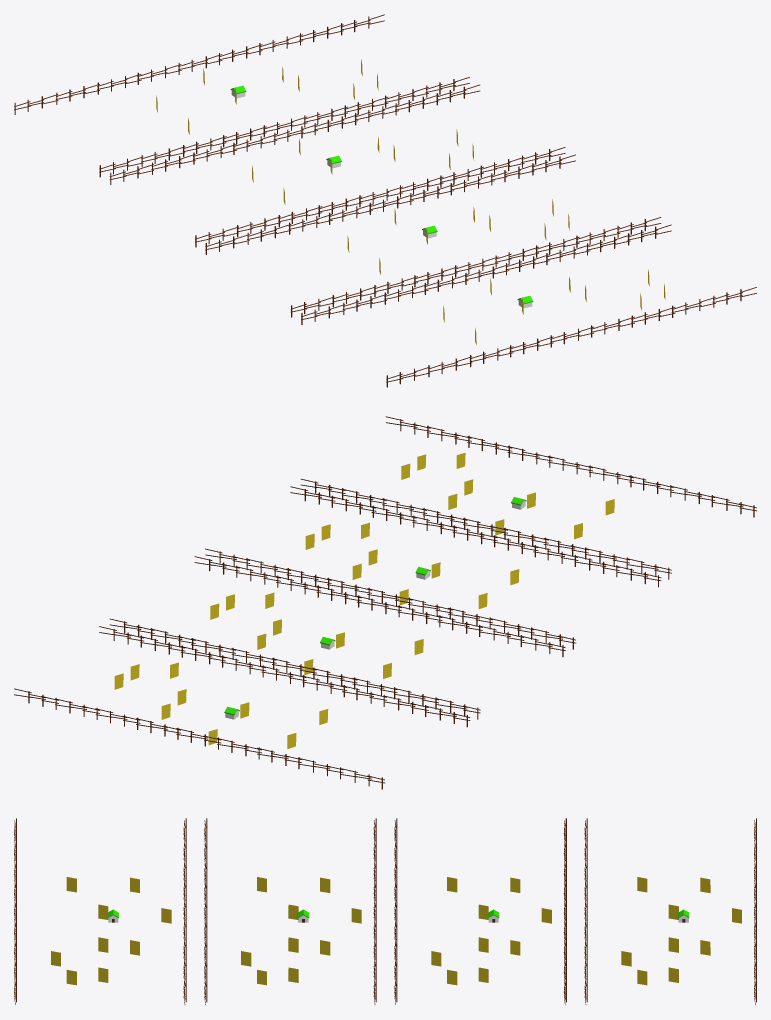
File: farm08.glb
3 renders of one model, top to bottom at view 1: azimuth 30°, elevation 25°; view 2: azimuth 150°, elevation 25°; view 3: azimuth 270°, elevation 25°, orthographic.
Visible parts, largest first — view 1: Farm08; view 2: Farm08; view 3: Farm08.
Part boxes in pixels (x1,y1,x2,y2): Farm08: (14,14,756,387); Farm08: (14,416,756,789); Farm08: (14,818,756,1005).
Size of the model in its own units: 17.92 by 0.8765 by 31.26.
